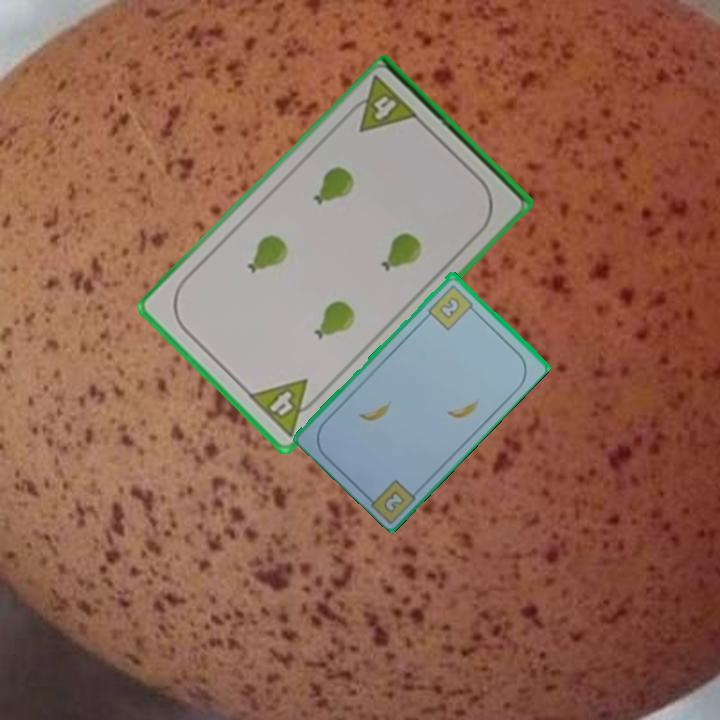2b: (424, 281, 479, 333), (380, 486, 408, 516)
4p: (245, 375, 325, 440), (342, 73, 422, 135)
